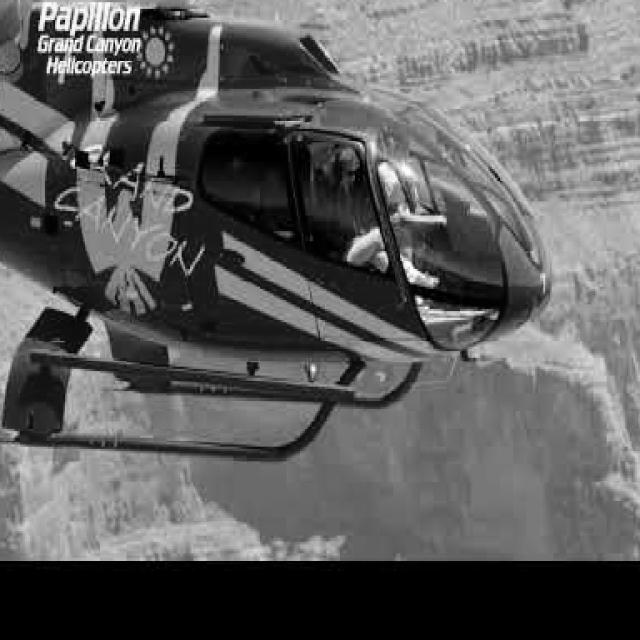helicopter: (1, 1, 568, 437)
